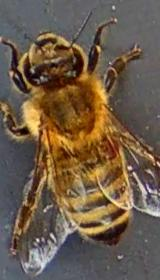varroa_mite: (86, 128, 123, 162)
